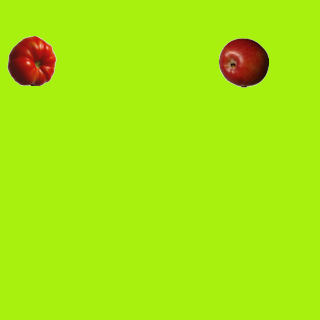Apple Braeburn: (218, 37, 268, 87)
Tomato 3: (6, 35, 56, 85)
